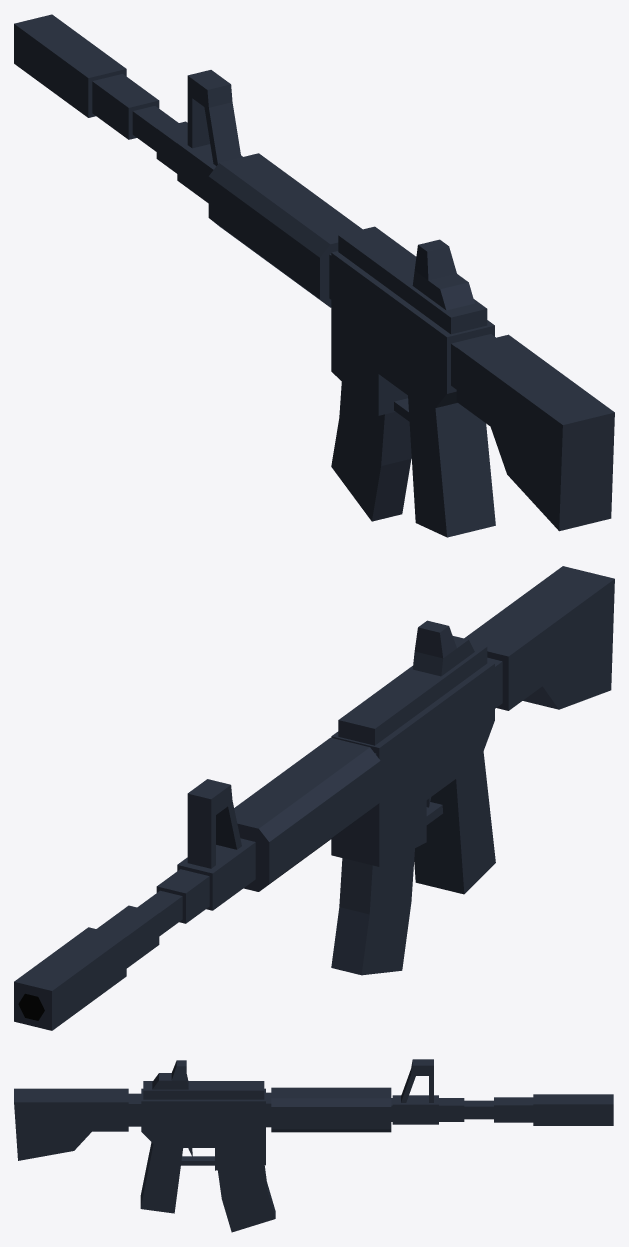
Rendered from weapon_ar.fbx.
3 renders of one model, top to bottom at view 1: azimuth 30°, elevation 25°; view 2: azimuth 150°, elevation 25°; view 3: azimuth 270°, elevation 25°, orthographic. The views are drawn at different scales.
Visible parts, largest first — view 1: Cube; view 2: Cube; view 3: Cube.
Part boxes in pixels (<box>): Cube: <box>14,14,614,537</box>; Cube: <box>14,566,614,1030</box>; Cube: <box>14,1059,613,1232</box>.
Size of the model in its own units: 12.59 by 61.15 by 201.
